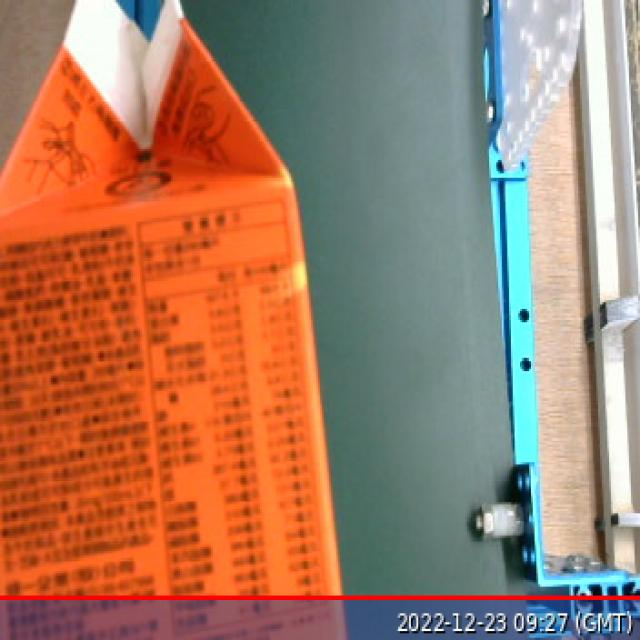non_white_jug: (0, 1, 368, 639)
